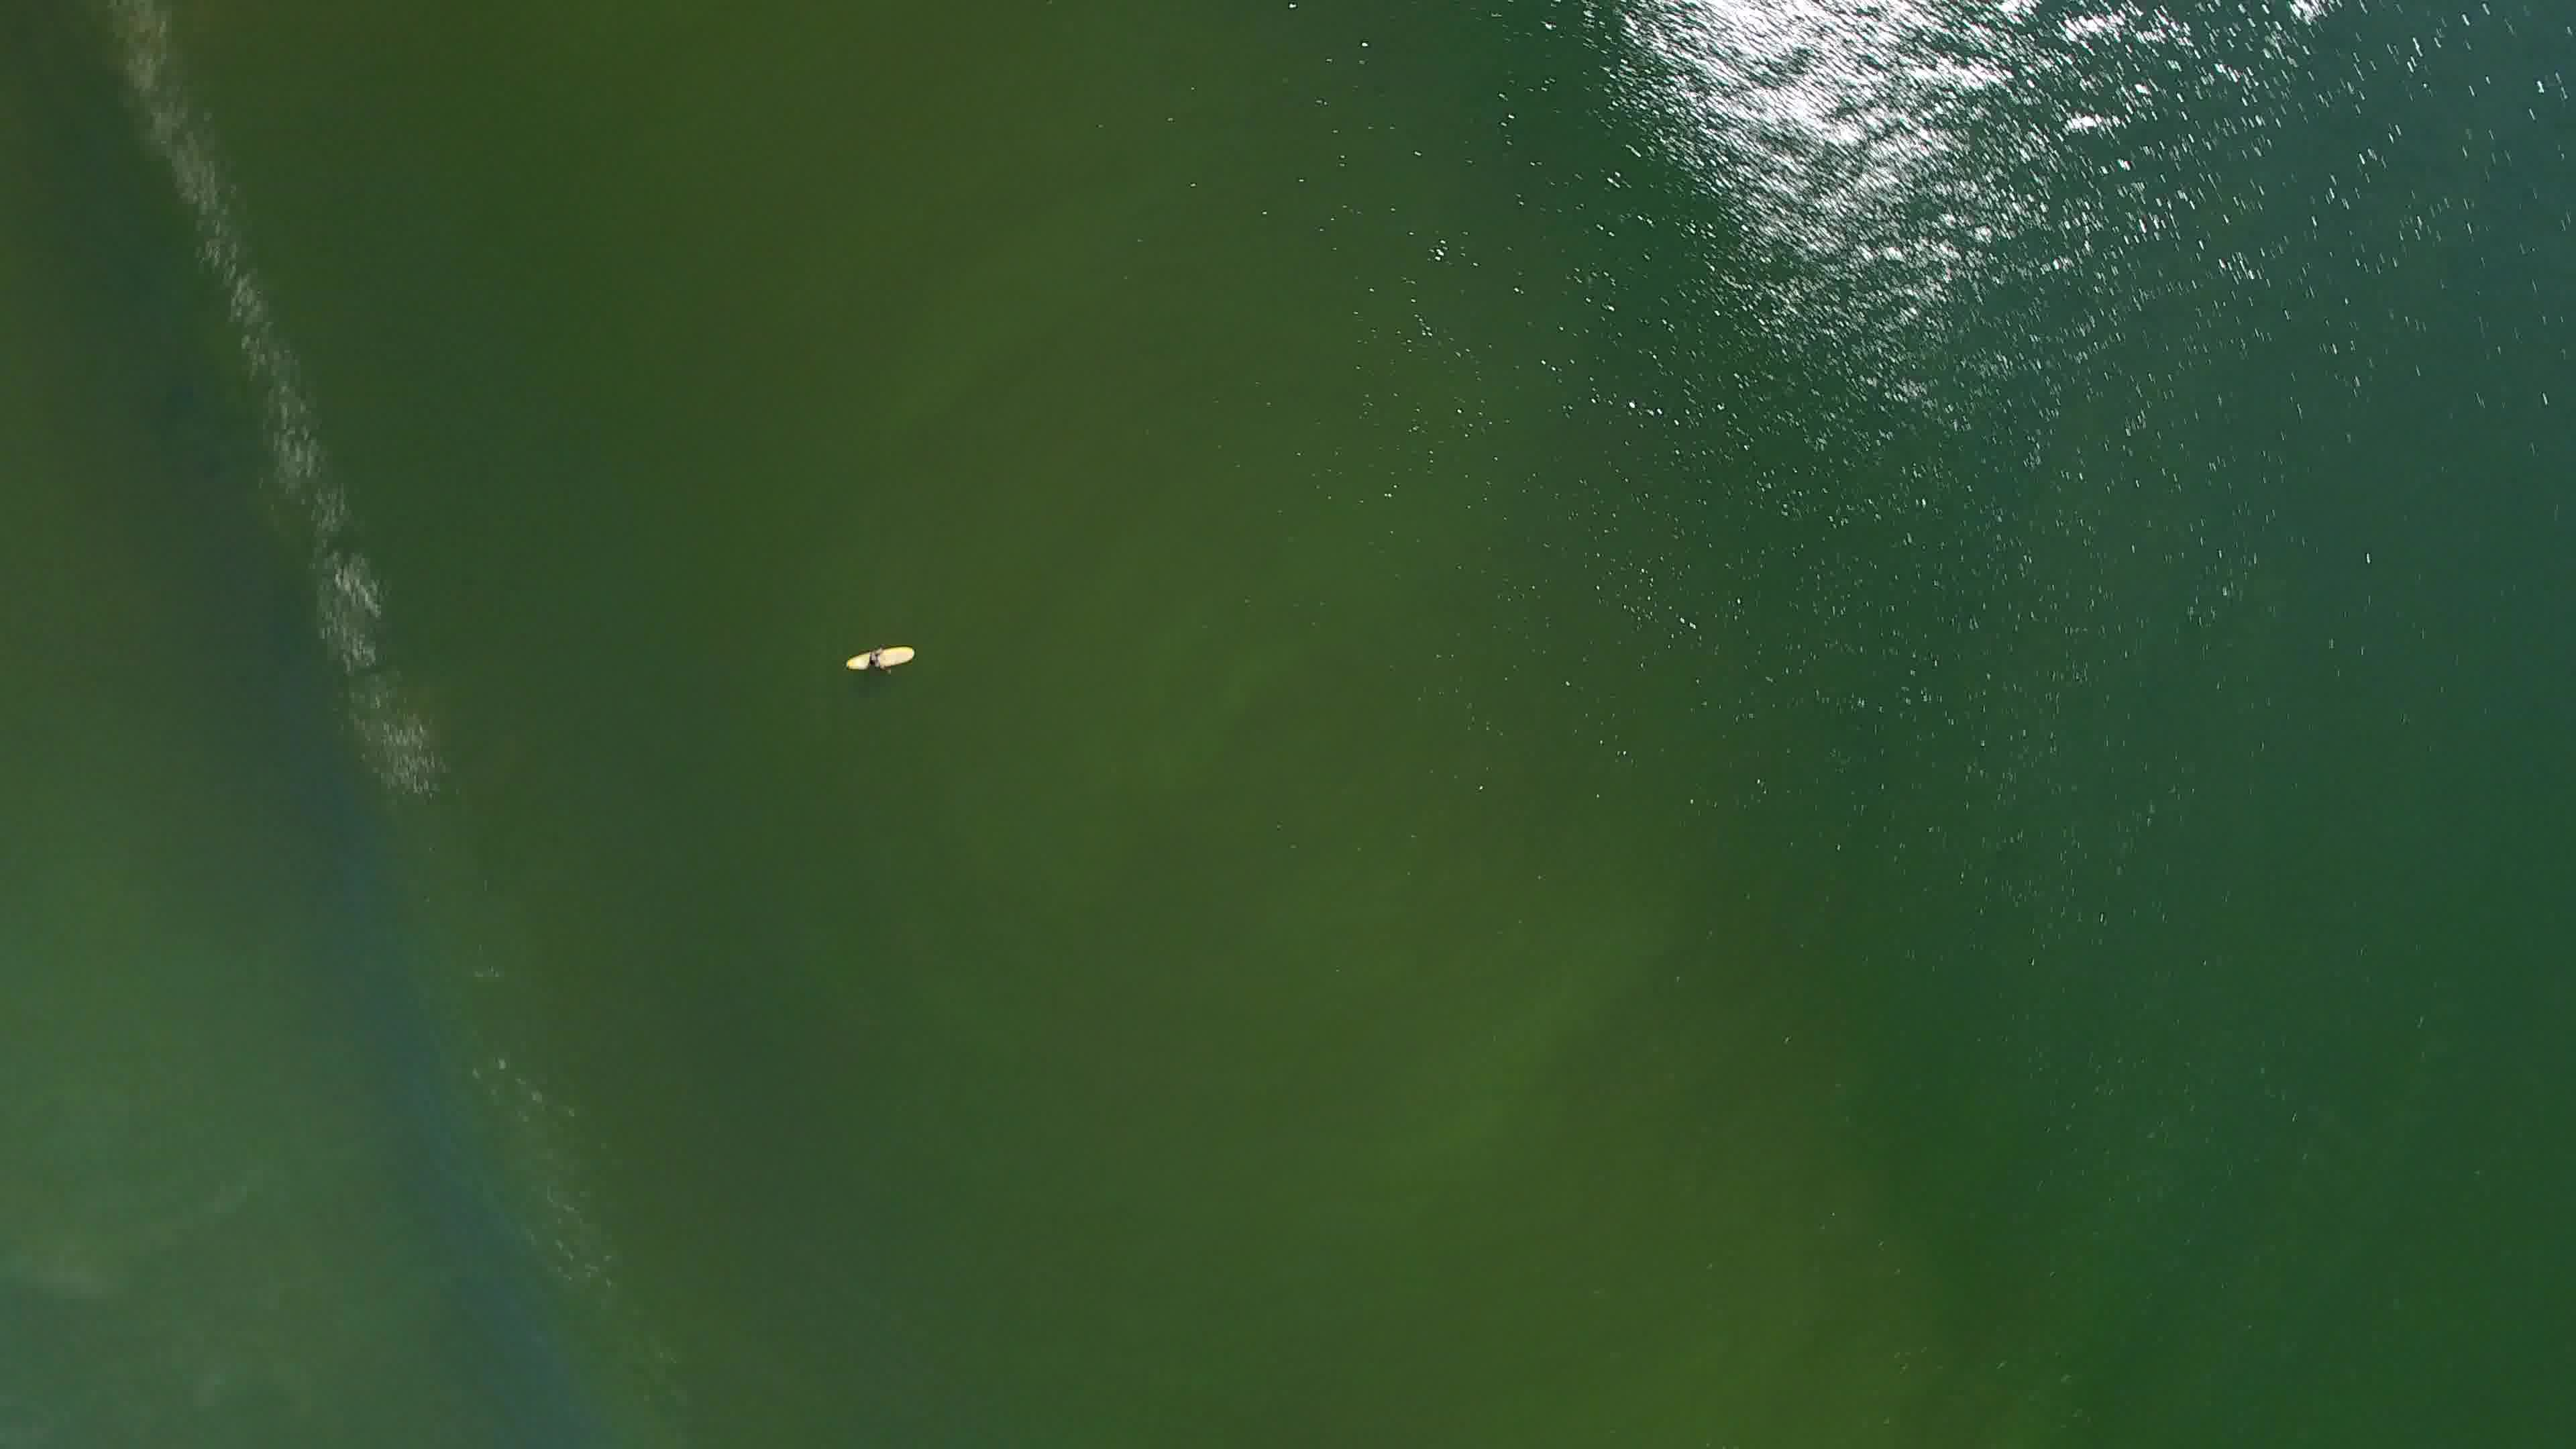surfer: (839, 635, 924, 685)
